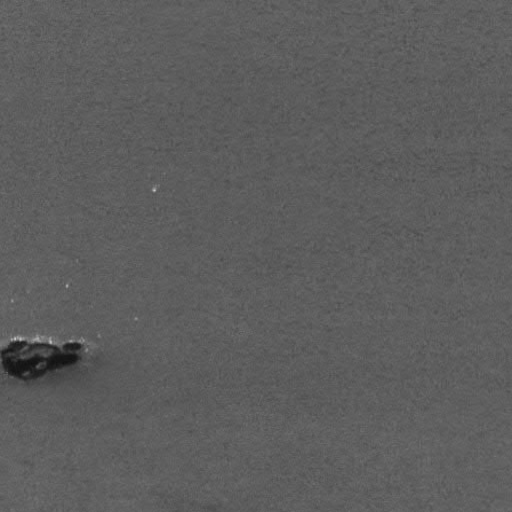aokeng: (2, 336, 88, 385)
